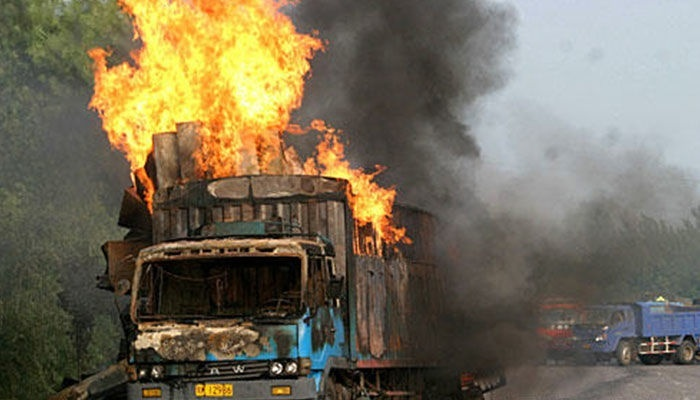fire: (88, 0, 320, 179), (305, 124, 412, 254)
